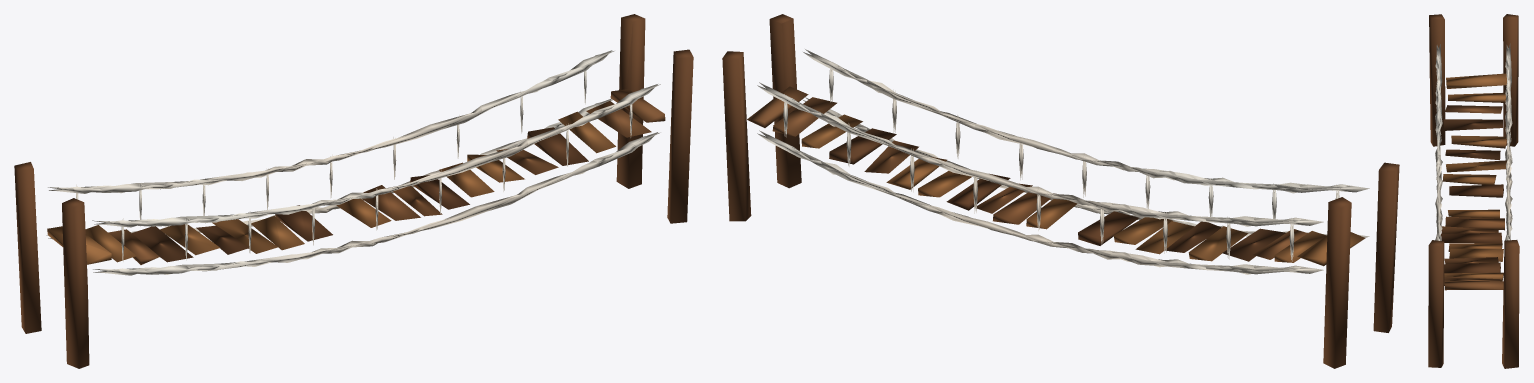
The model's file is glade_bridge_rope_lod2.glb.
The picture shows the model from 3 angles, left to right: view 1: azimuth 30°, elevation 25°; view 2: azimuth 150°, elevation 25°; view 3: azimuth 270°, elevation 25°; orthographic projection. The views are drawn at different scales.
Parts seen in each view (by area): view 1: glade_bridge_rope.001; view 2: glade_bridge_rope.001; view 3: glade_bridge_rope.001.
Part boxes in pixels (x1,y1,x2,y2): glade_bridge_rope.001: [14, 14, 693, 368]; glade_bridge_rope.001: [722, 14, 1399, 368]; glade_bridge_rope.001: [1428, 14, 1519, 368].
Size of the model in its own units: 19.76 by 4.97 by 3.26.
